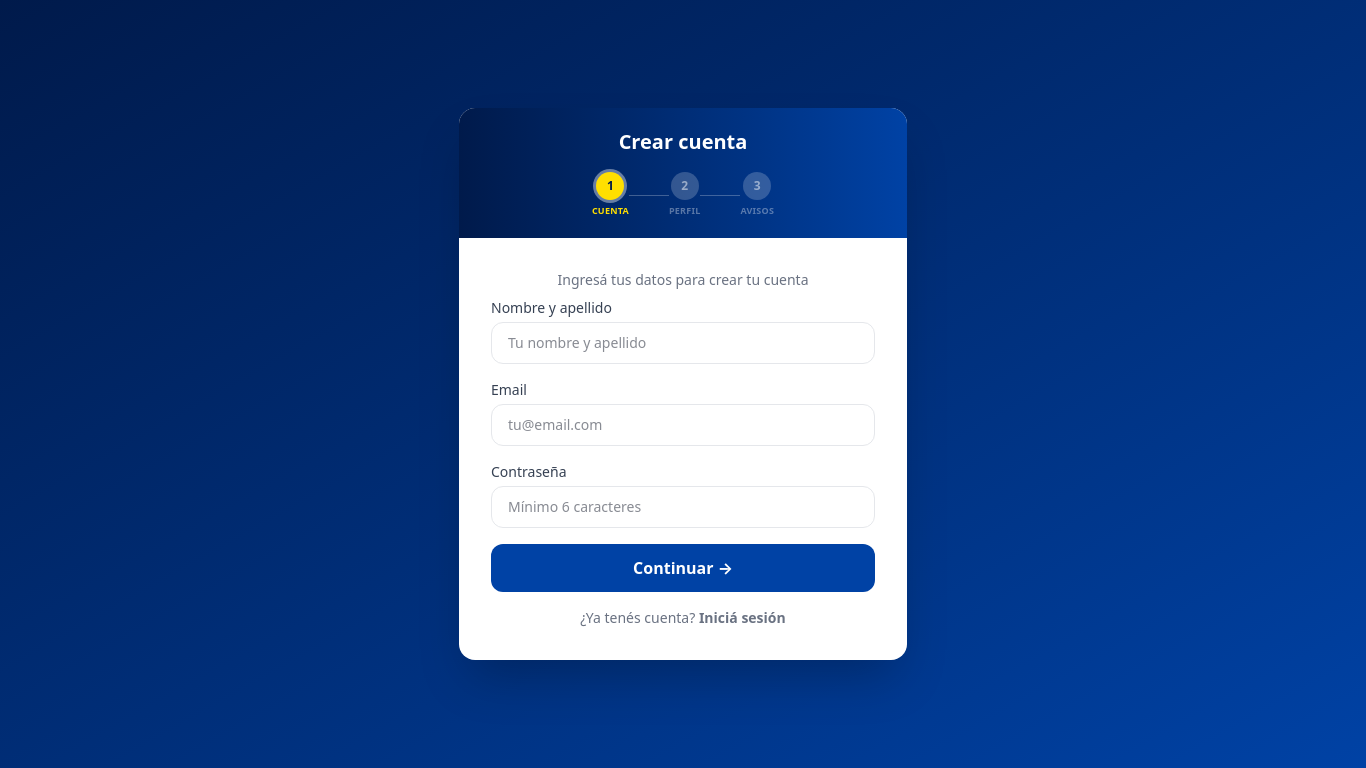
Scenario: Register — validaciones del paso complete › todos los temas de equipo están disponibles en el selector
Type "Carlos" into the field with placeholder "Tu nombre y apellido" at (683, 343), box [491,322,875,364]
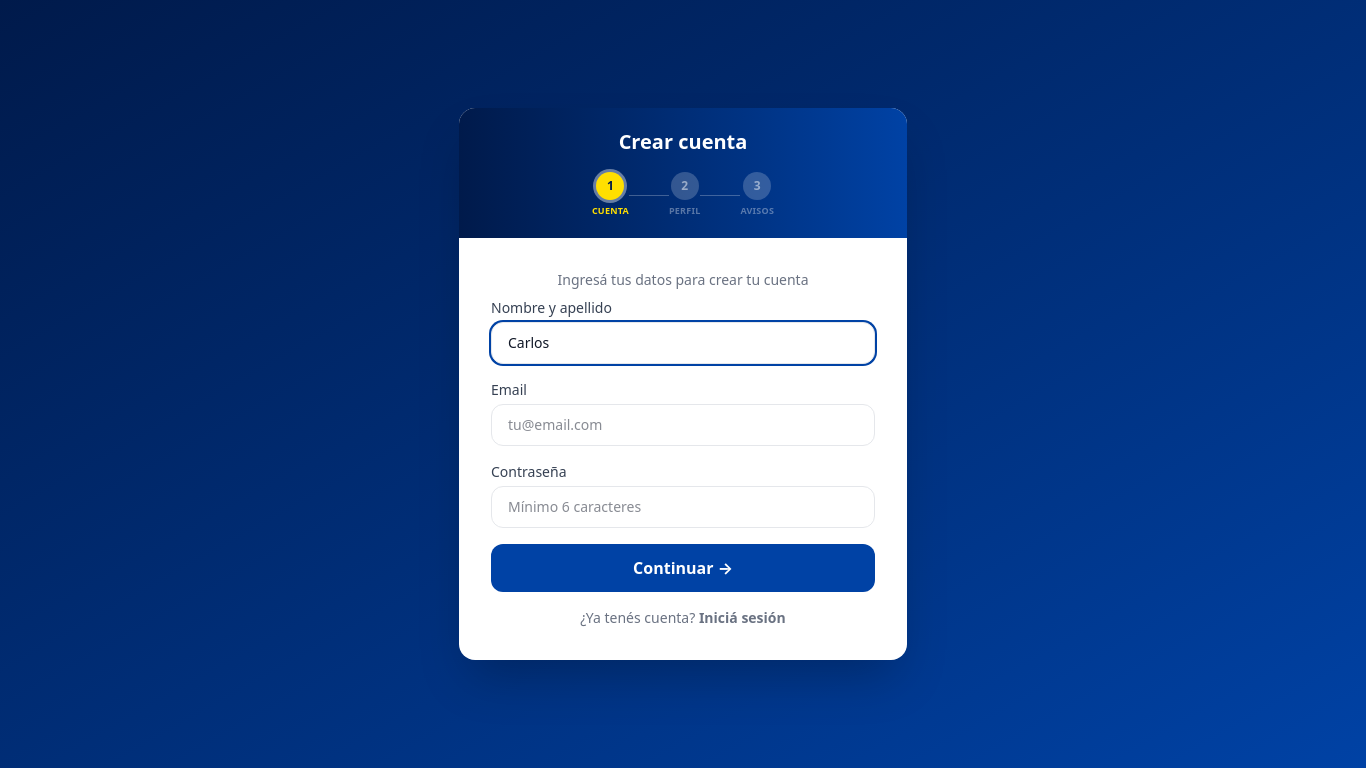
Type "carlos@test.com" into the field with placeholder "tu@email.com" at (683, 425), box [491,404,875,446]
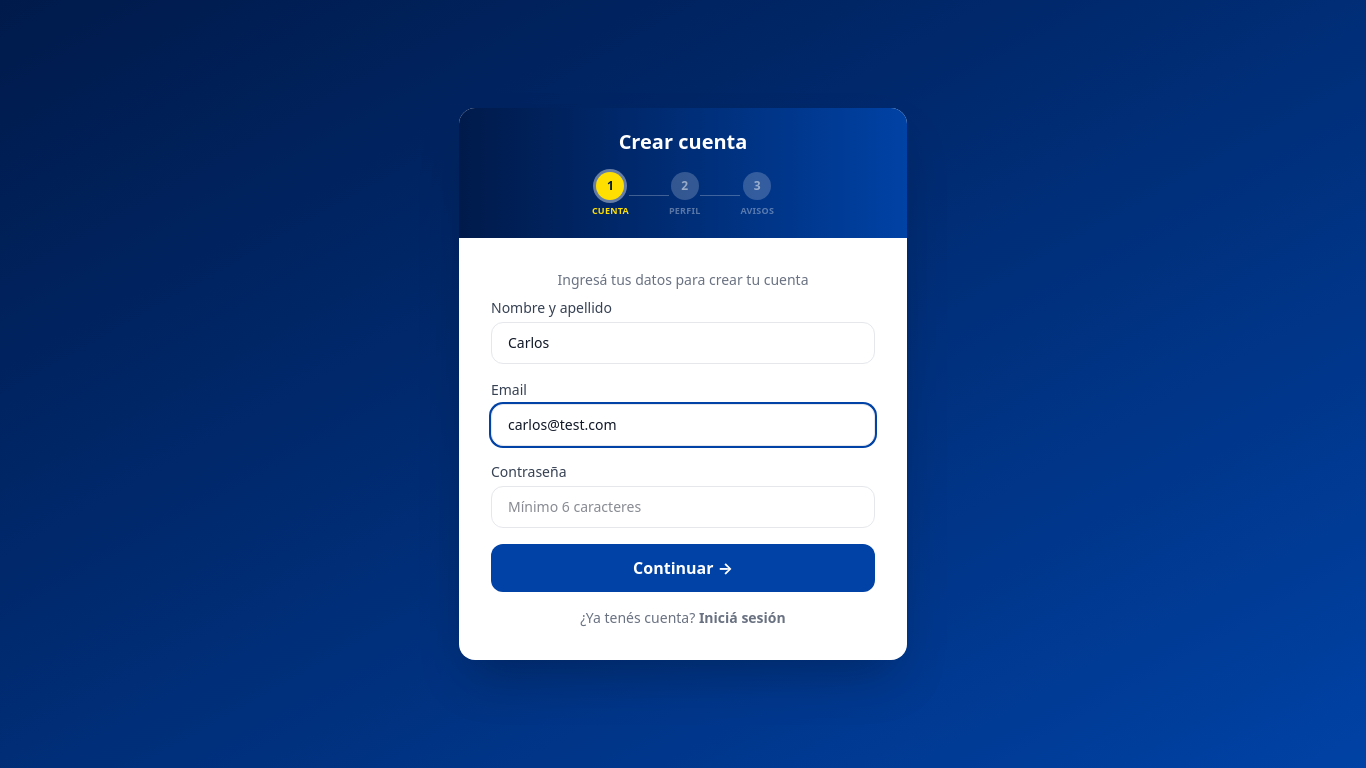
Type "pass123" into the password field with placeholder "Mínimo 6 caracteres" at (683, 507), box [491,486,875,528]
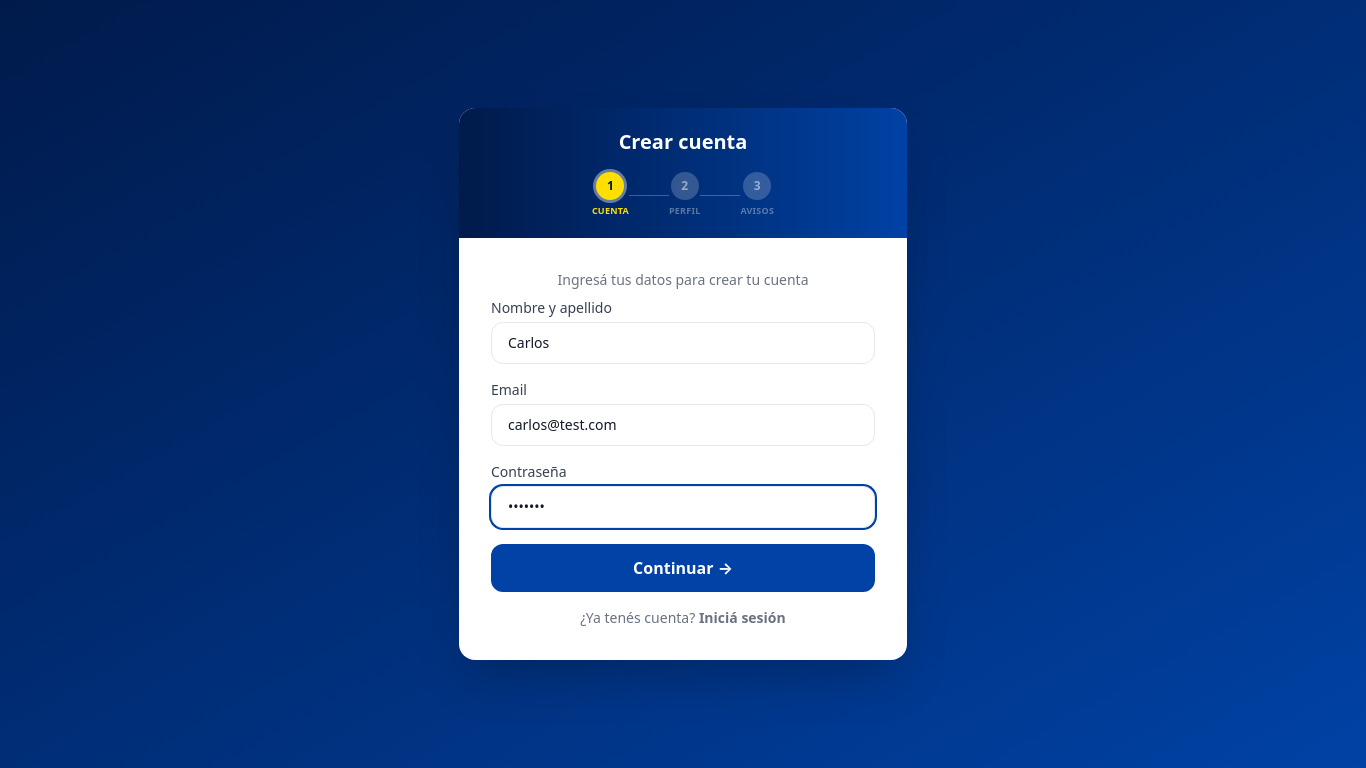
Click the button "Continuar →" at (683, 568), box [491,544,875,592]
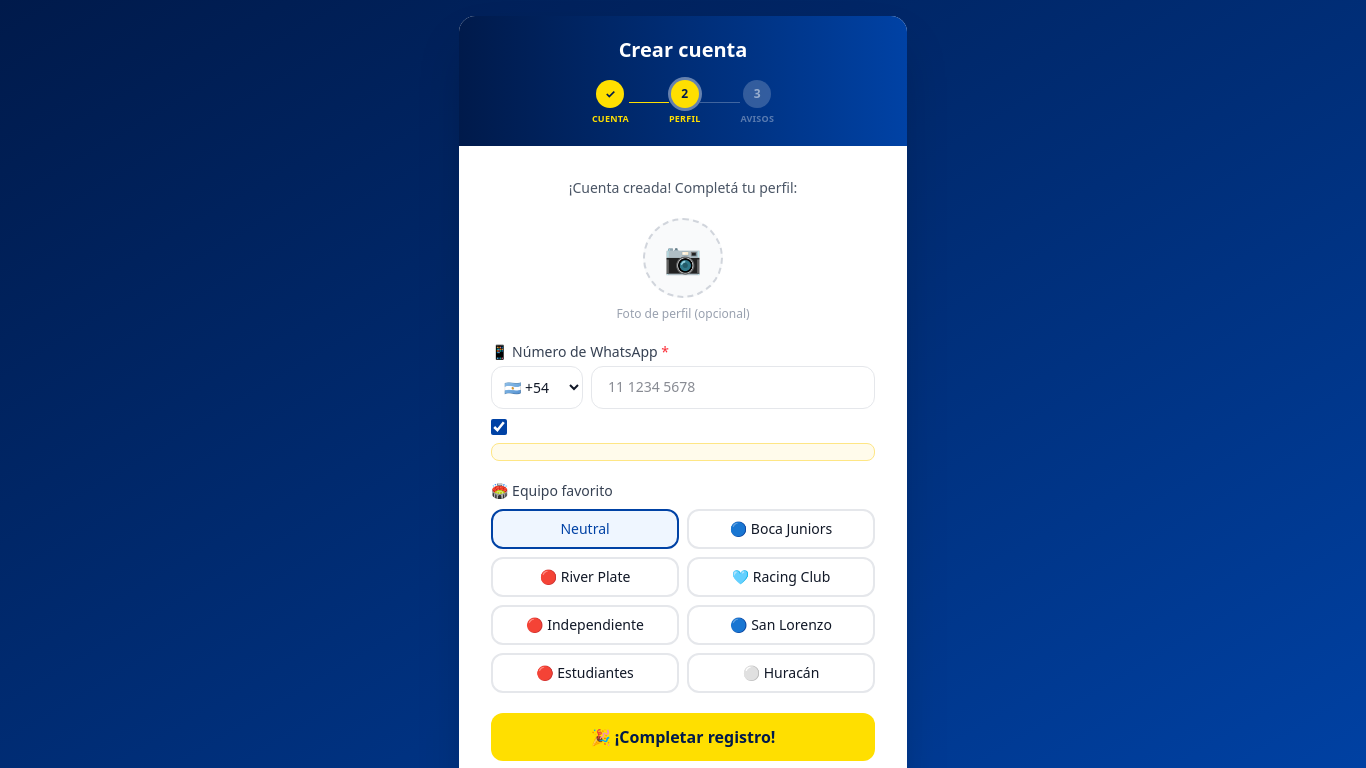
Now the text "¡Cuenta creada! Completá tu perfil:" is shown, box [569,178,797,196]
Now the button "🔵 Boca Juniors" is shown, box [687,508,875,548]
Now the button "🔴 River Plate" is shown, box [491,556,679,596]
